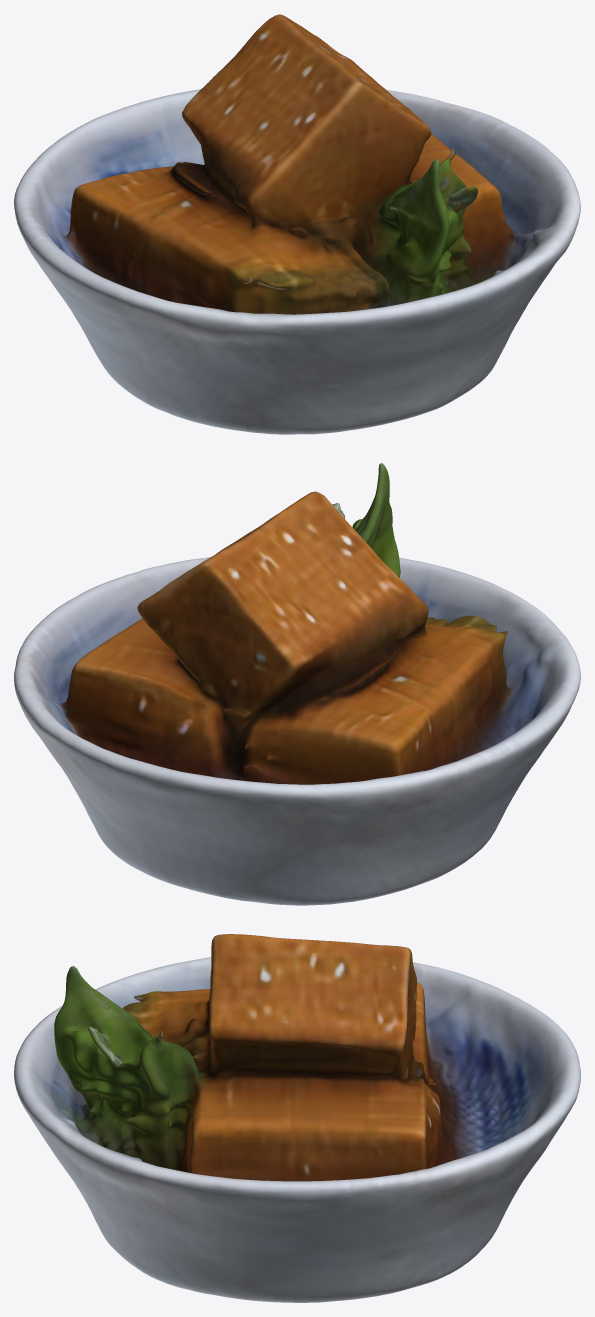
The model's file is stinky_tofu.glb.
3 renders of one model, top to bottom at view 1: azimuth 30°, elevation 25°; view 2: azimuth 150°, elevation 25°; view 3: azimuth 270°, elevation 25°, orthographic.
Visible parts, largest first — view 1: high_poly_0; view 2: high_poly_0; view 3: high_poly_0.
Boxes of the visible parts, box(x1,y1,x2,y2) form: high_poly_0: box(14, 14, 580, 434); high_poly_0: box(14, 463, 580, 905); high_poly_0: box(14, 934, 580, 1302).
Size of the model in its own units: 0.9972 by 0.5905 by 1.
Materials: 1 (1 with a texture image).
